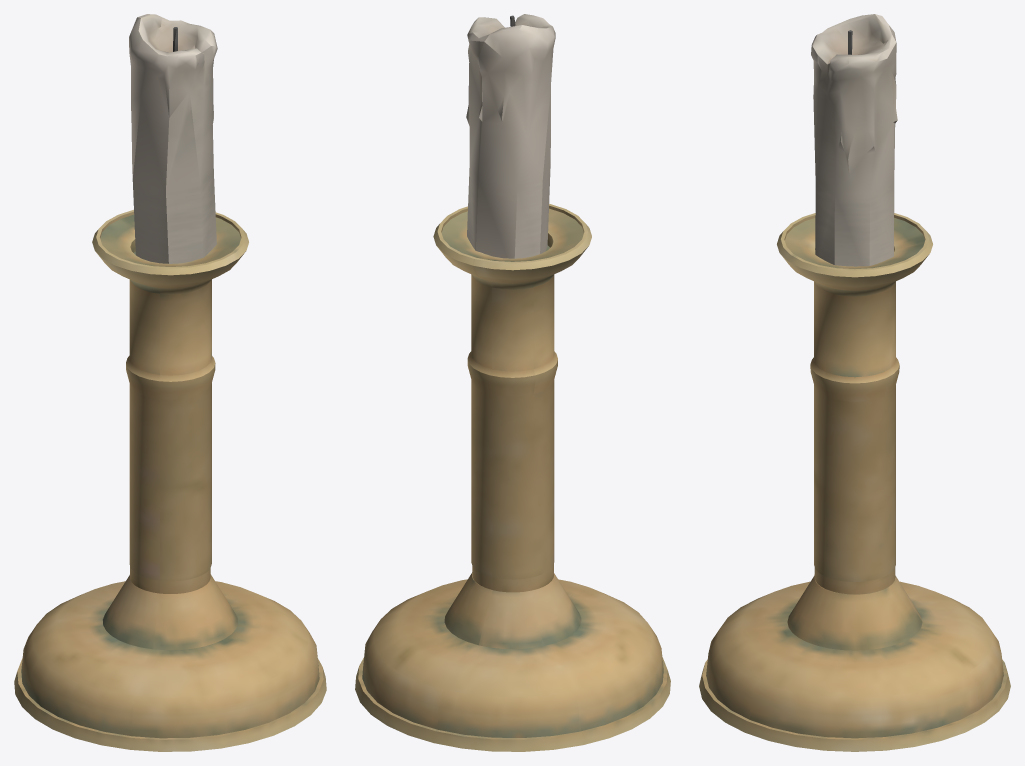
The model's file is candlestick-brass-d.glb.
3 views of the same model, side by side, from view 1: azimuth 30°, elevation 25°; view 2: azimuth 150°, elevation 25°; view 3: azimuth 270°, elevation 25° (orthographic).
Visible parts, largest first — view 1: candlestick-brass-d; view 2: candlestick-brass-d; view 3: candlestick-brass-d.
Part boxes in pixels (x1,y1,x2,y2): candlestick-brass-d: (14,14,326,751); candlestick-brass-d: (355,14,670,751); candlestick-brass-d: (699,14,1010,751).
Size of the model in its own units: 0.08 by 0.1875 by 0.08.
Materials: 1 (1 with a texture image).
